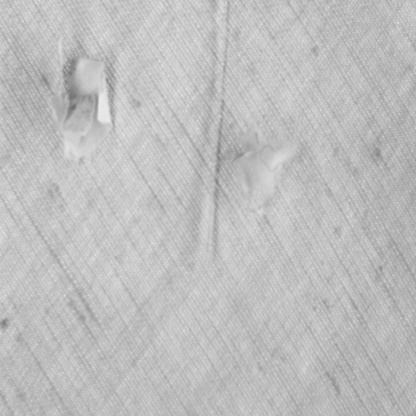objects: (44, 36, 116, 158), (203, 0, 235, 259), (222, 117, 296, 217)
